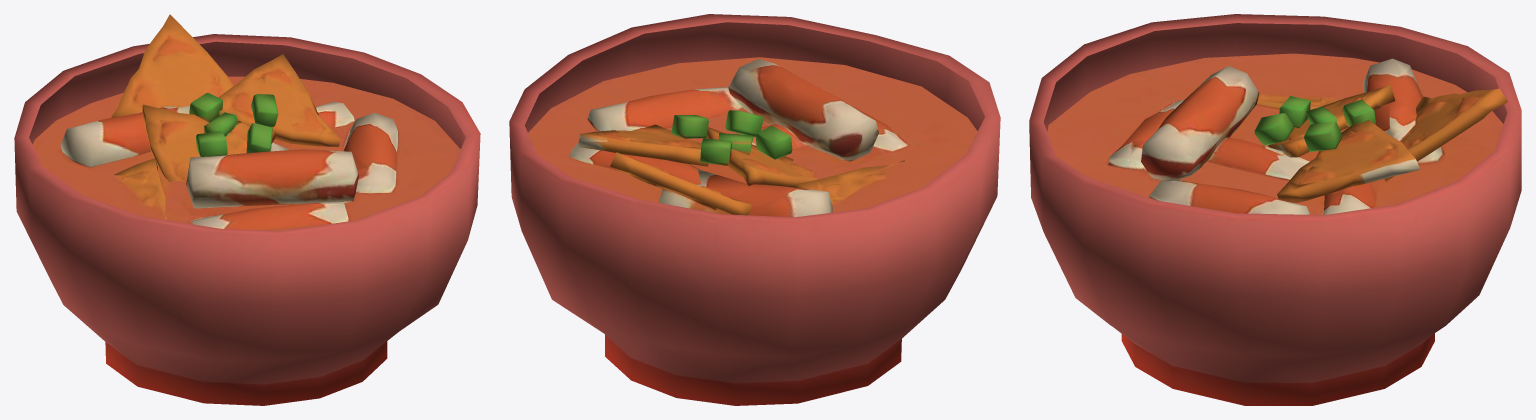
Rendered from 레벨1_떡볶이.glb.
3 renders of one model, left to right at view 1: azimuth 30°, elevation 25°; view 2: azimuth 150°, elevation 25°; view 3: azimuth 270°, elevation 25°, orthographic. The views are drawn at different scales.
Parts seen in each view (by area): view 1: tripo_node_e3d22ab8-bb84-45be-ae62-93d39060887f; view 2: tripo_node_e3d22ab8-bb84-45be-ae62-93d39060887f; view 3: tripo_node_e3d22ab8-bb84-45be-ae62-93d39060887f.
Part boxes in pixels (x1=…): tripo_node_e3d22ab8-bb84-45be-ae62-93d39060887f: x1=14, y1=14, x2=480, y2=405; tripo_node_e3d22ab8-bb84-45be-ae62-93d39060887f: x1=509, y1=14, x2=1000, y2=405; tripo_node_e3d22ab8-bb84-45be-ae62-93d39060887f: x1=1029, y1=14, x2=1521, y2=405.
Bounding box in the file's own units: 0.9825 × 0.5957 × 0.998.
1 material, 1 textured.
